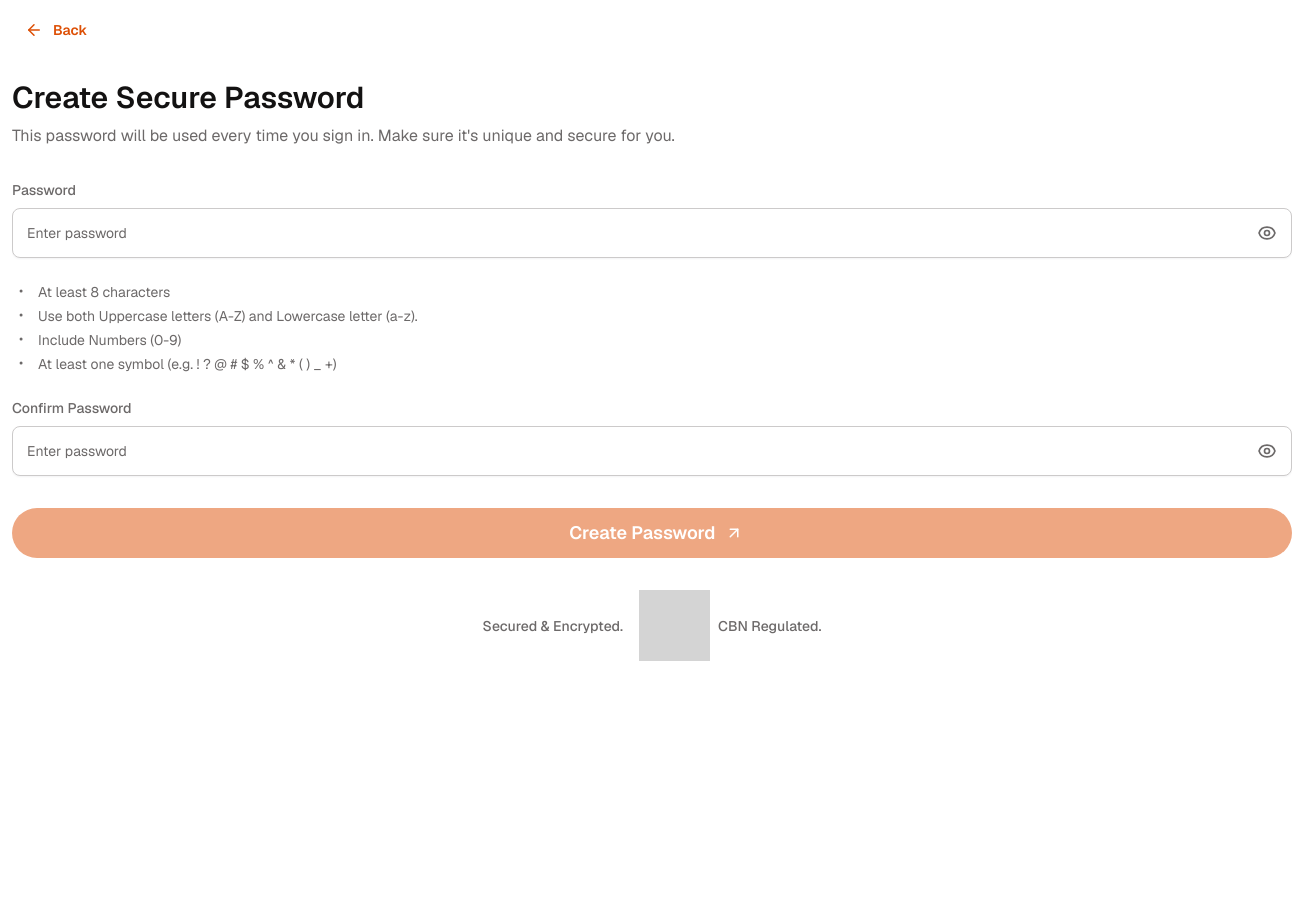
Create Password Page - Onboarding › shows error when passwords don't match
The image size is (1304, 912).
In the 1st password field with placeholder "Enter password": (652, 233) [12,208,1292,258], type "Test123!@"
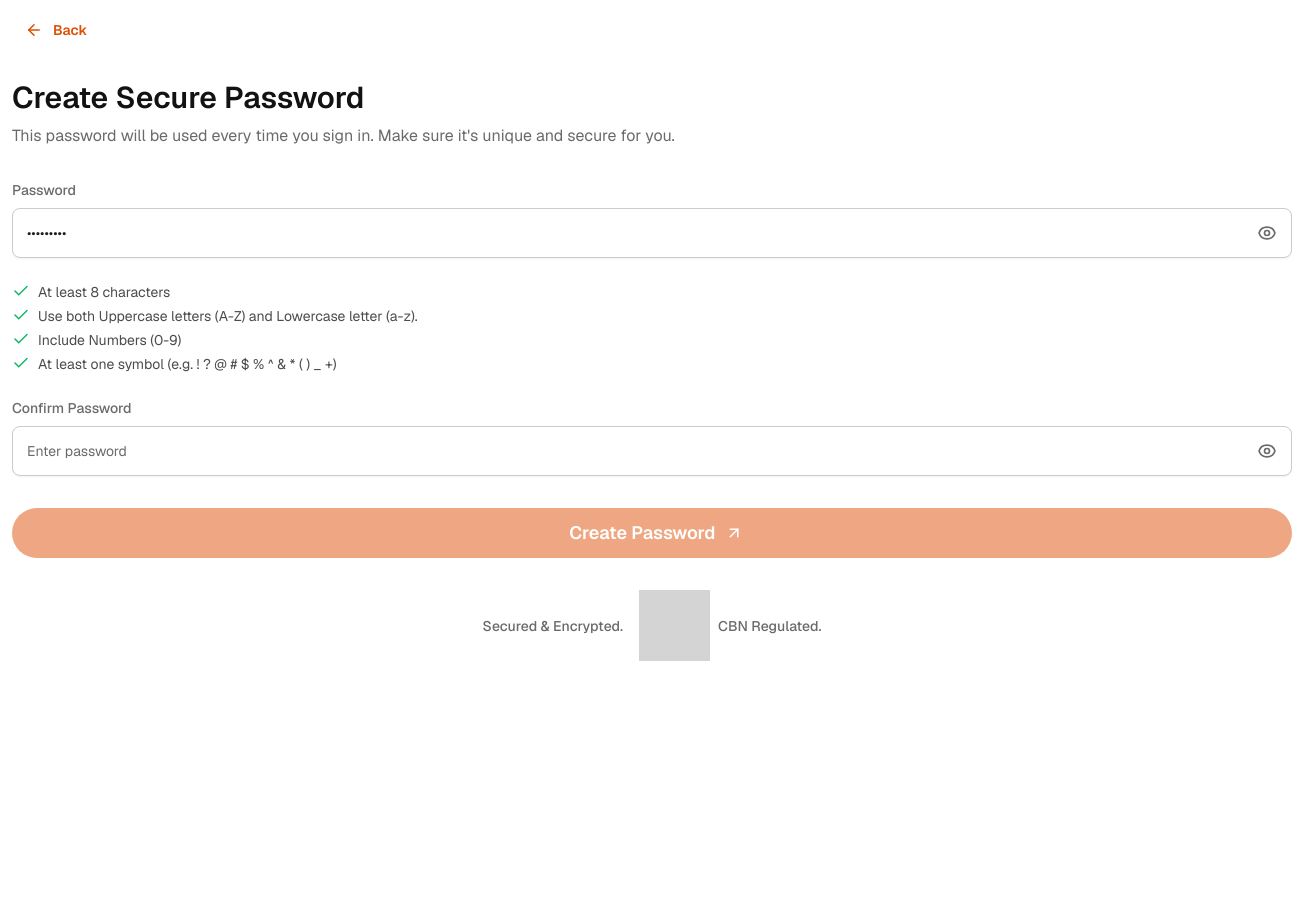
In the password field with placeholder "Enter password": (652, 451) [12,426,1292,476], type "Test123!@#"
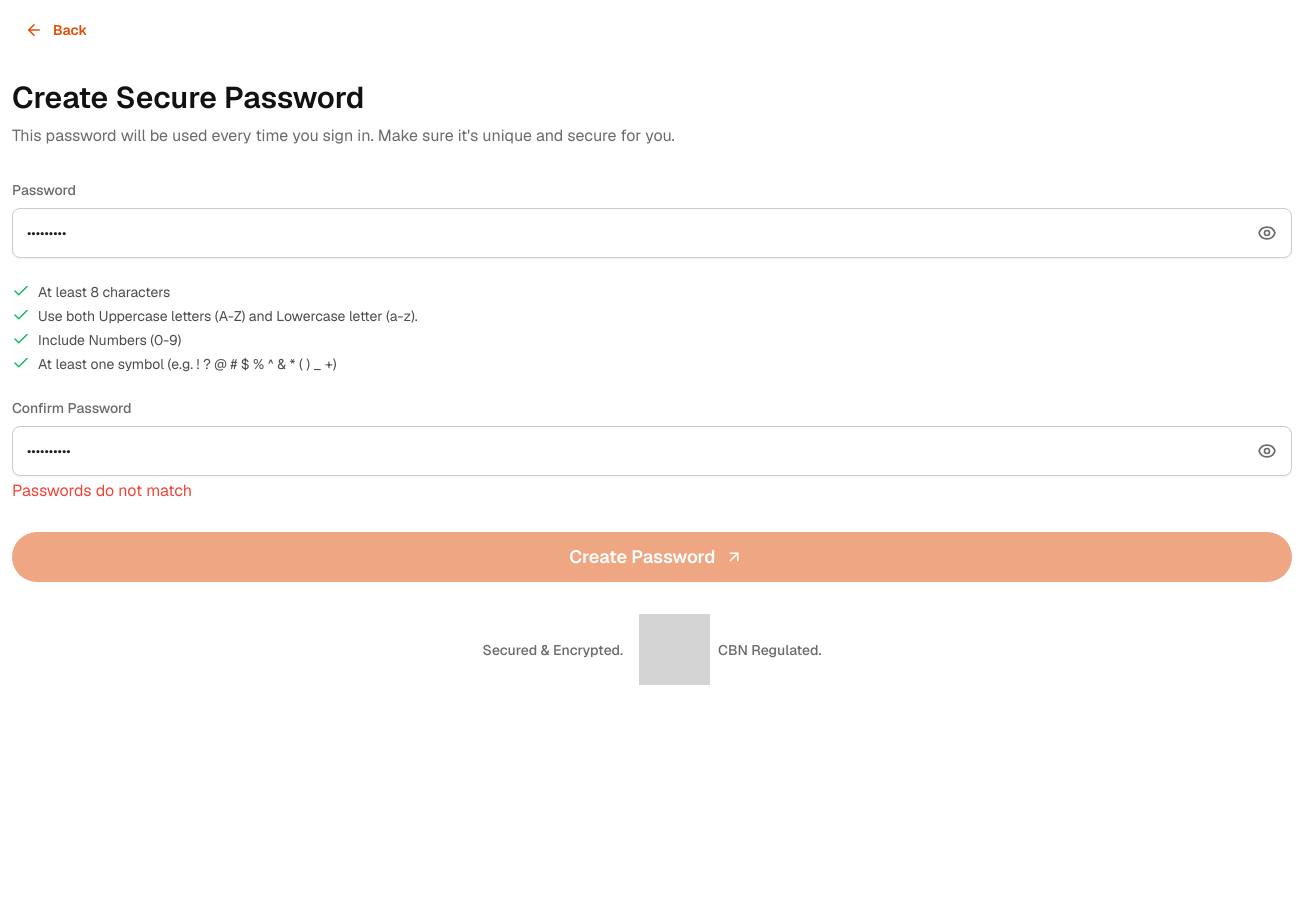
Result: the text "Passwords do not match" is shown at [12,480,192,501]
